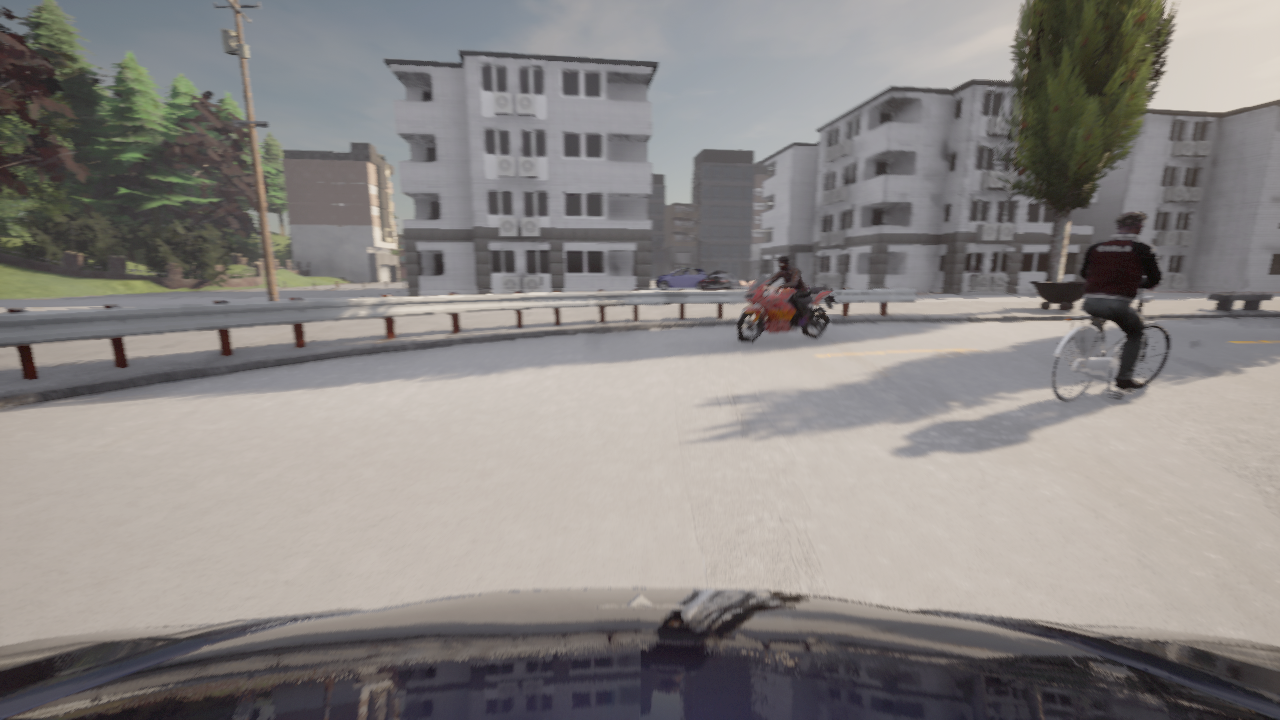cyclist: (0, 588, 1279, 719), (1052, 284, 1169, 401), (736, 276, 837, 342), (654, 268, 706, 289), (700, 271, 741, 289), (701, 279, 727, 281)
